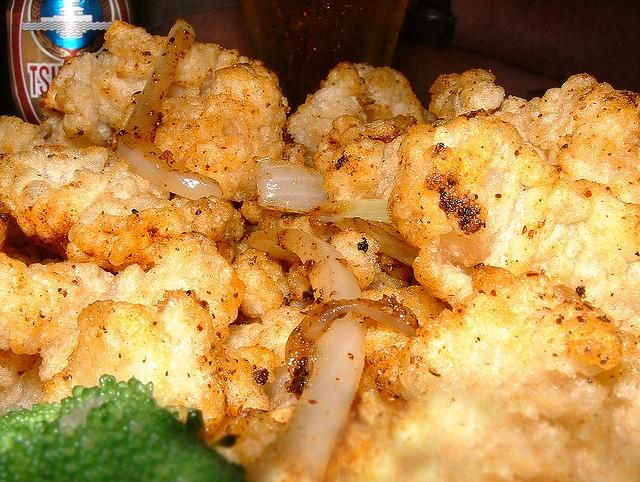broccoli: (0, 376, 246, 482)
onion: (245, 311, 366, 482), (112, 17, 222, 200), (334, 218, 421, 267), (256, 156, 328, 214), (306, 303, 416, 340), (306, 199, 392, 229)
